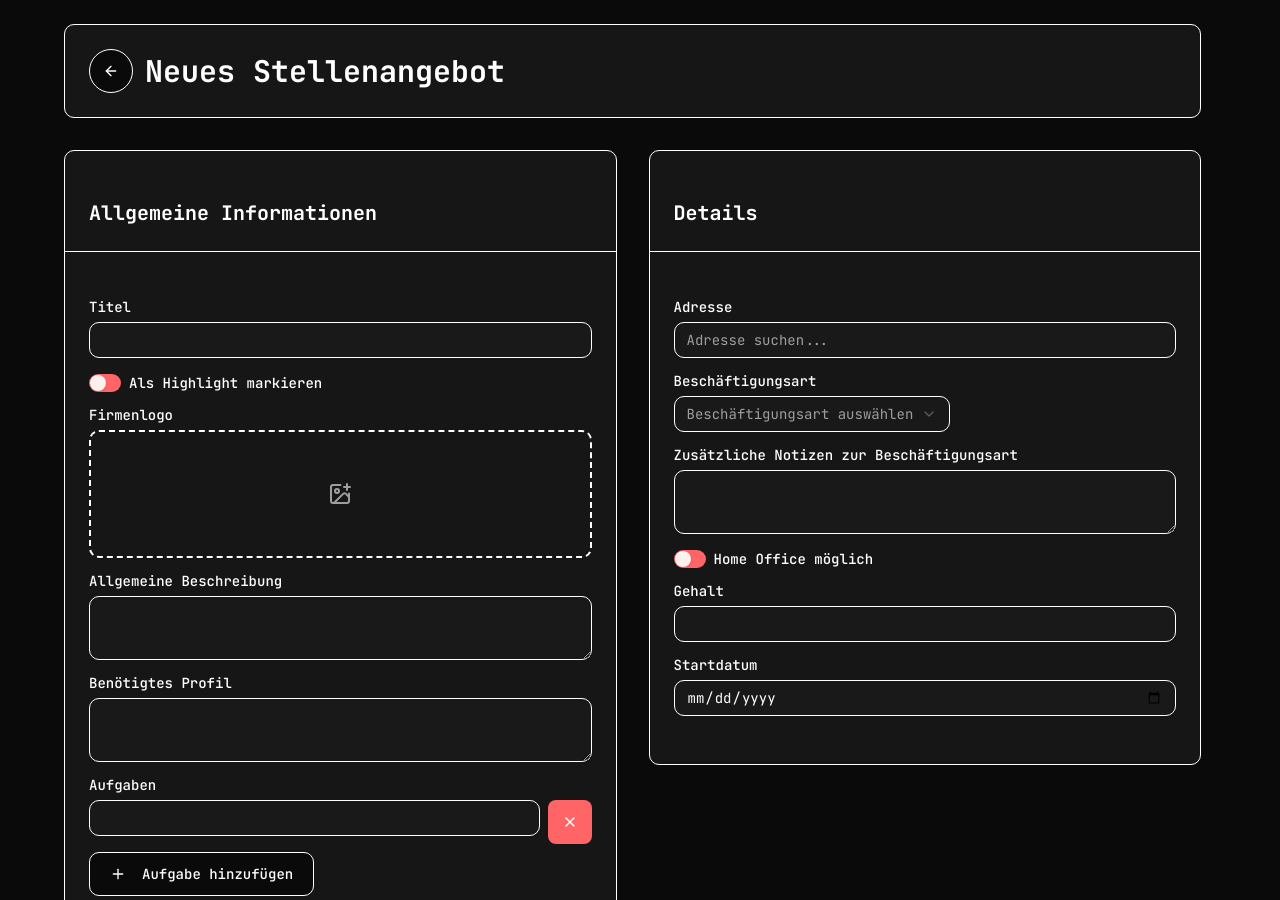
Test case: JobOfferForm › Home Office Conditional Fields › sollte Home Office Notizen zeigen wenn aktiviert
The image size is (1280, 900).
Click the switch named "Home Office möglich" next to "Home Office möglich".
click(690, 559)  # box [674, 550, 706, 568]
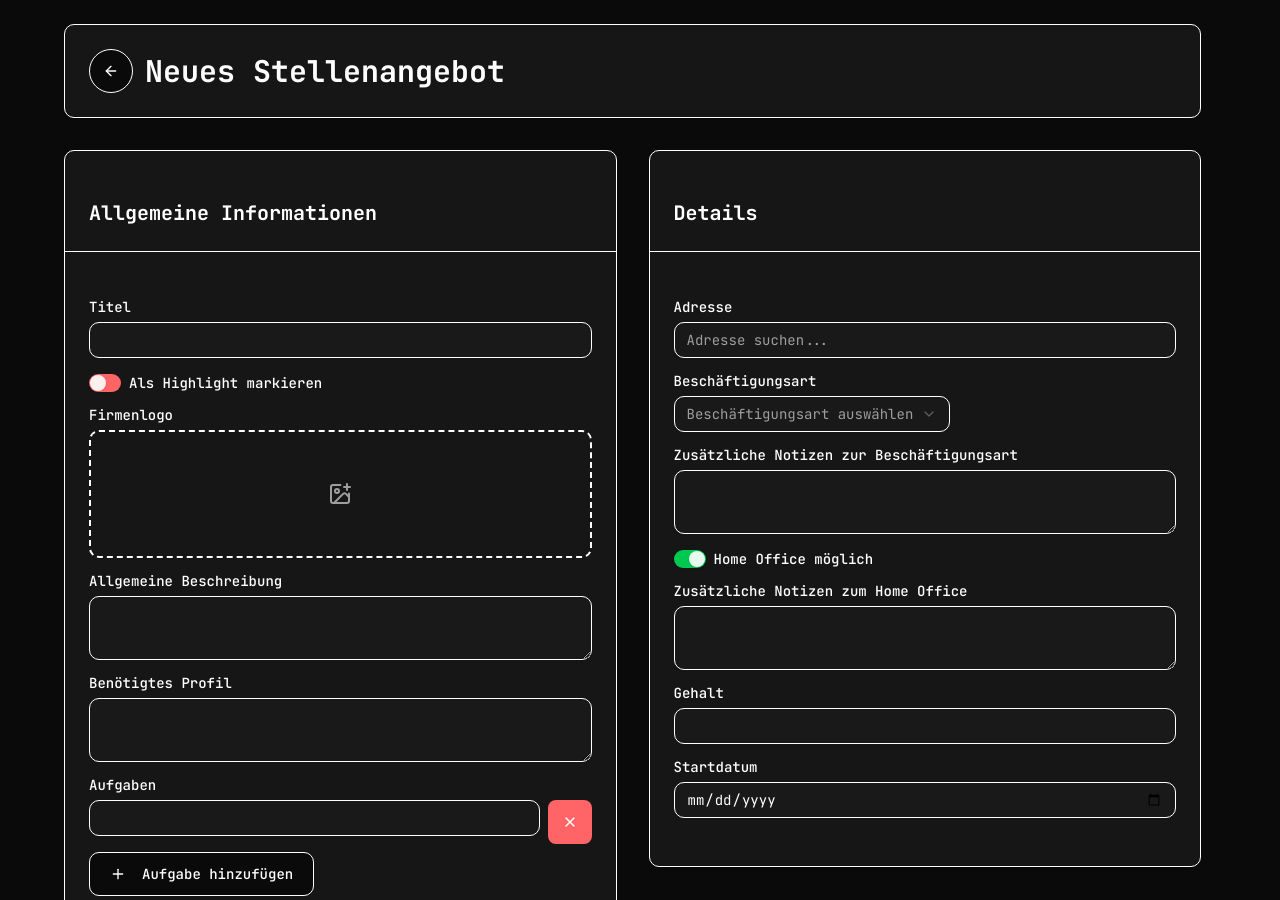
Check: the text box labelled "Zusätzliche Notizen zum Home Office" is shown, box [674, 606, 1176, 670]
